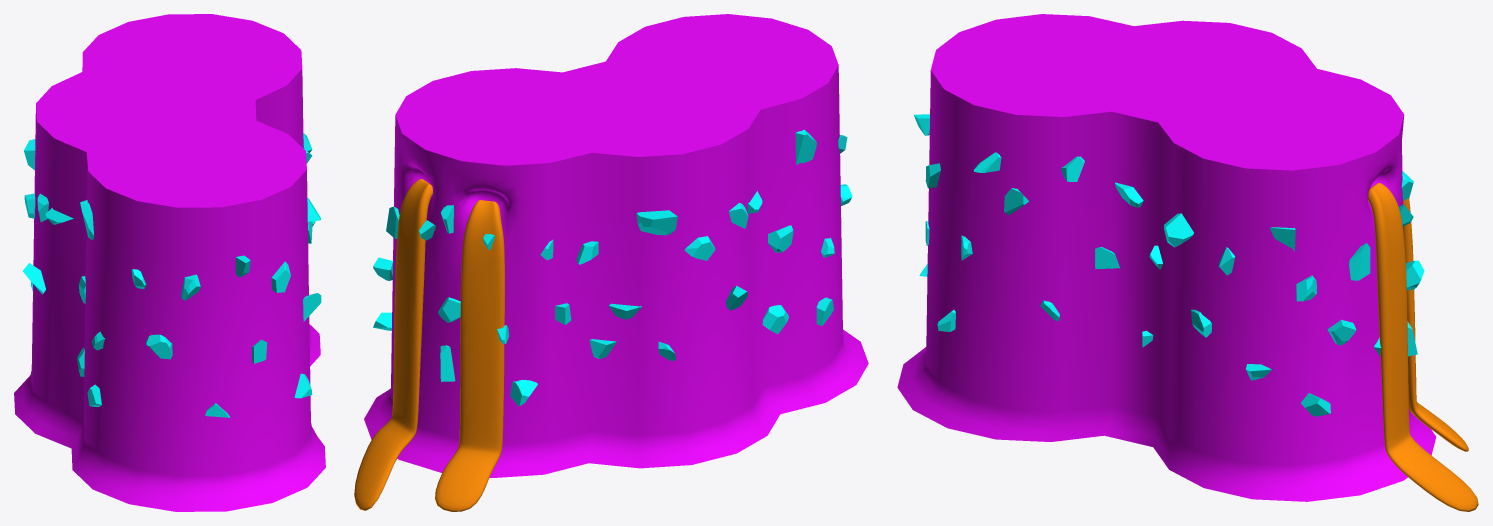
The model's file is Pilar HP.fbx.
3 renders of one model, left to right at view 1: azimuth 30°, elevation 25°; view 2: azimuth 150°, elevation 25°; view 3: azimuth 270°, elevation 25°, orthographic. The views are drawn at different scales.
Visible parts, largest first — view 1: Pilar HP; view 2: Pilar HP; view 3: Pilar HP.
Boxes of the visible parts, x1=… form: Pilar HP: x1=14, y1=14, x2=325, y2=511; Pilar HP: x1=354, y1=14, x2=868, y2=511; Pilar HP: x1=897, y1=14, x2=1478, y2=511.
Size of the model in its own units: 693 by 649 by 950.
